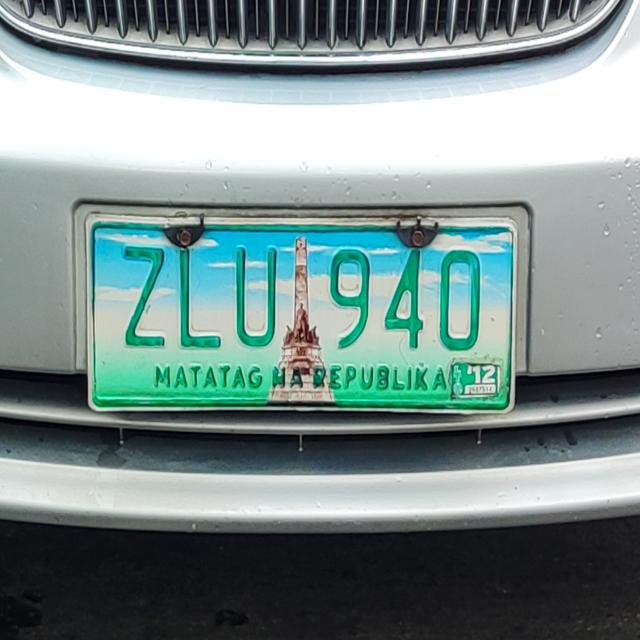plate: (79, 205, 525, 430)
